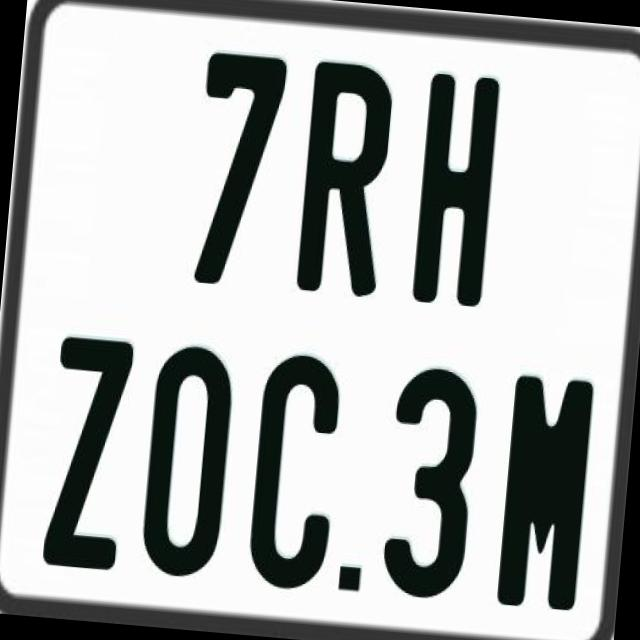0: (134, 341, 236, 584)
3: (380, 366, 486, 610)
7: (188, 50, 294, 297)
C: (242, 348, 344, 596)
H: (410, 73, 502, 307)
M: (492, 372, 594, 609)
R: (294, 58, 398, 300)
Z: (37, 332, 136, 575)
